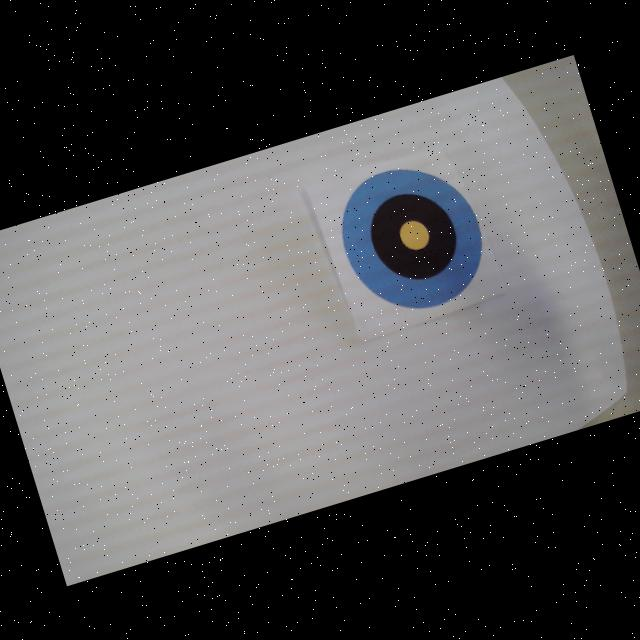COGNITIVE: (326, 148, 499, 326)
